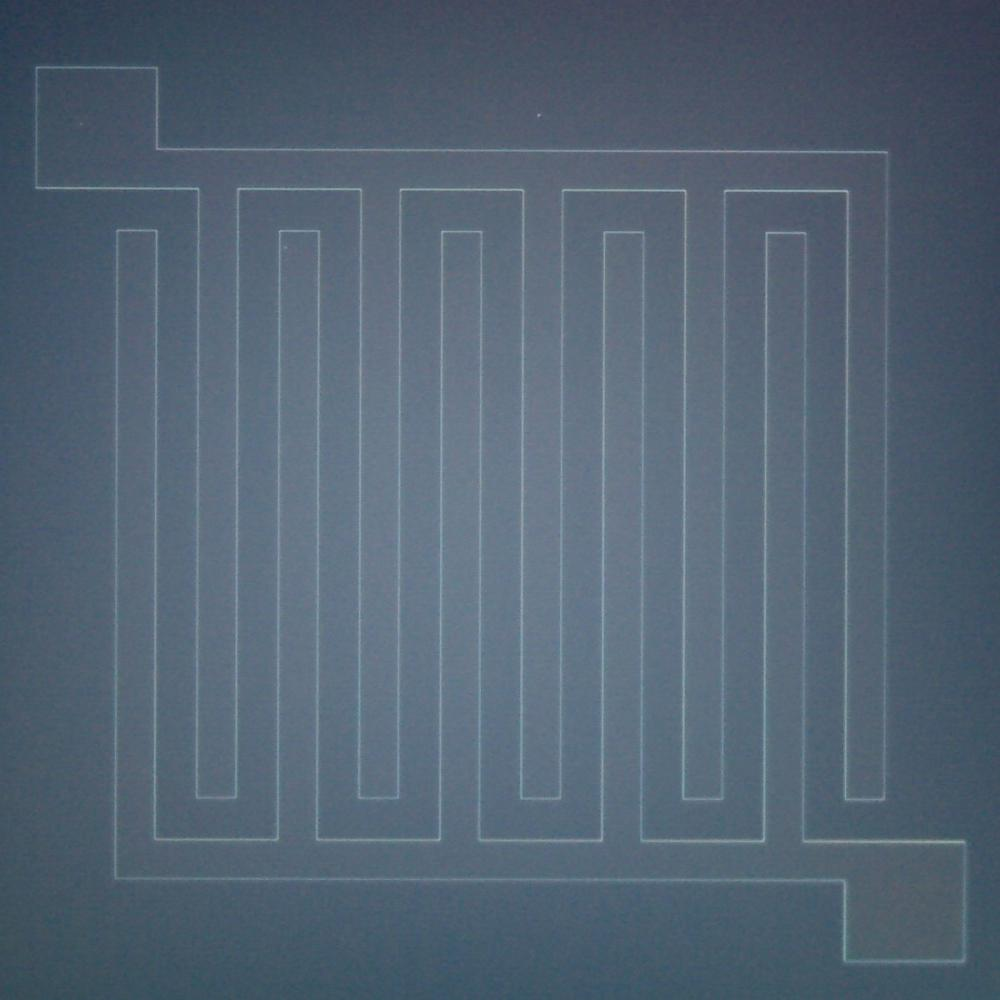dot: (284, 245, 288, 250), (537, 114, 541, 118)
